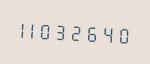four: (101, 21, 114, 46)
one: (17, 16, 30, 41), (31, 17, 44, 42)
six: (87, 20, 100, 45)
three: (59, 19, 72, 43)
two: (73, 19, 86, 44)
zero: (45, 18, 58, 43), (115, 22, 128, 46)
